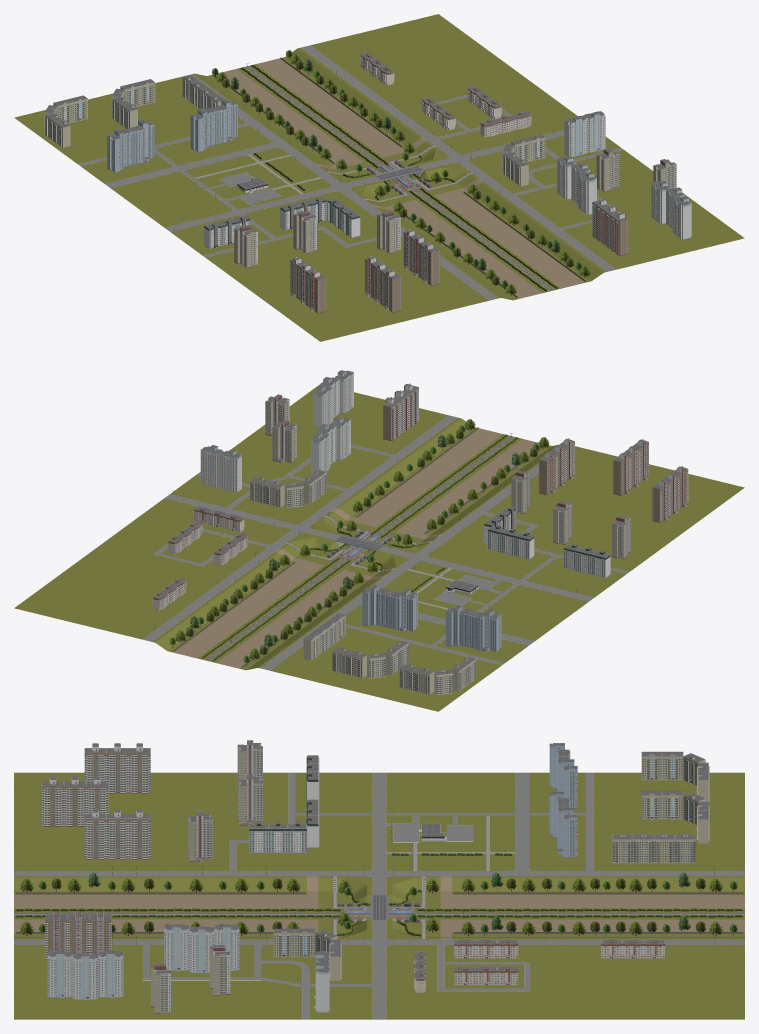
File: tram-station-map.glb
The picture shows the model from 3 angles, top to bottom: view 1: azimuth 30°, elevation 25°; view 2: azimuth 150°, elevation 25°; view 3: azimuth 270°, elevation 25°; orthographic projection. The views are drawn at different scales.
Visible parts, largest first — view 1: Plane.005_92, Plane.006_93, Plane.002_116, Plane.001_115, Plane_91, Cube.063_30, Cube.061_28, Cube.059_26, Cube.067_34, Cube.058_25, Cube.050_17, Cube.110_59 (+12 smaller); view 2: Plane.005_92, Plane.006_93, Plane.002_116, Plane.001_115, Plane_91, Cube.063_30, Cube.061_28, Cube.062_29, Cube.060_27, Cube.110_59, Cube.050_17, Cube.067_34 (+12 smaller); view 3: Plane.005_92, Plane.006_93, Plane.002_116, Plane.001_115, Plane_91, Cube.059_26, Cube.058_25, Cube.115_64, Cube.117_66, Cube.116_65, Cube.049_16, Cube.101_50 (+39 smaller).
Part boxes in pixels (x1=…): Plane.005_92: x1=14, y1=14, x2=744, y2=341; Plane.006_93: x1=215, y1=58, x2=585, y2=298; Plane.002_116: x1=78, y1=74, x2=498, y2=300; Plane.001_115: x1=301, y1=45, x2=623, y2=271; Plane_91: x1=244, y1=66, x2=554, y2=291; Cube.063_30: x1=107, y1=128, x2=133, y2=172; Cube.061_28: x1=190, y1=108, x2=216, y2=152; Cube.059_26: x1=293, y1=210, x2=316, y2=253; Cube.067_34: x1=234, y1=225, x2=257, y2=268; Cube.058_25: x1=377, y1=210, x2=400, y2=253; Cube.050_17: x1=564, y1=115, x2=587, y2=156; Cube.110_59: x1=596, y1=148, x2=619, y2=192; Plane.005_92: x1=14, y1=384, x2=744, y2=711; Plane.006_93: x1=174, y1=428, x2=540, y2=668; Plane.002_116: x1=260, y1=446, x2=629, y2=670; Plane.001_115: x1=142, y1=415, x2=457, y2=641; Plane_91: x1=205, y1=436, x2=514, y2=660; Cube.063_30: x1=471, y1=609, x2=501, y2=651; Cube.061_28: x1=387, y1=589, x2=417, y2=631; Cube.062_29: x1=445, y1=605, x2=475, y2=647; Cube.060_27: x1=362, y1=585, x2=391, y2=627; Cube.110_59: x1=272, y1=420, x2=296, y2=463; Cube.050_17: x1=219, y1=449, x2=241, y2=492; Cube.067_34: x1=612, y1=515, x2=631, y2=558; Plane.005_92: x1=14, y1=772, x2=744, y2=1019; Plane.006_93: x1=14, y1=876, x2=744, y2=939; Plane.002_116: x1=14, y1=772, x2=744, y2=895; Plane.001_115: x1=14, y1=920, x2=744, y2=1019; Plane_91: x1=14, y1=912, x2=744, y2=915; Cube.059_26: x1=237, y1=774, x2=262, y2=825; Cube.058_25: x1=187, y1=811, x2=212, y2=861; Cube.115_64: x1=98, y1=951, x2=123, y2=997; Cube.117_66: x1=47, y1=951, x2=72, y2=997; Cube.116_65: x1=72, y1=953, x2=97, y2=1000; Cube.049_16: x1=164, y1=924, x2=189, y2=971; Cube.101_50: x1=128, y1=809, x2=150, y2=859.
Size of the model in its own units: 668 by 66.09 by 835.
43 materials, 43 textured.
